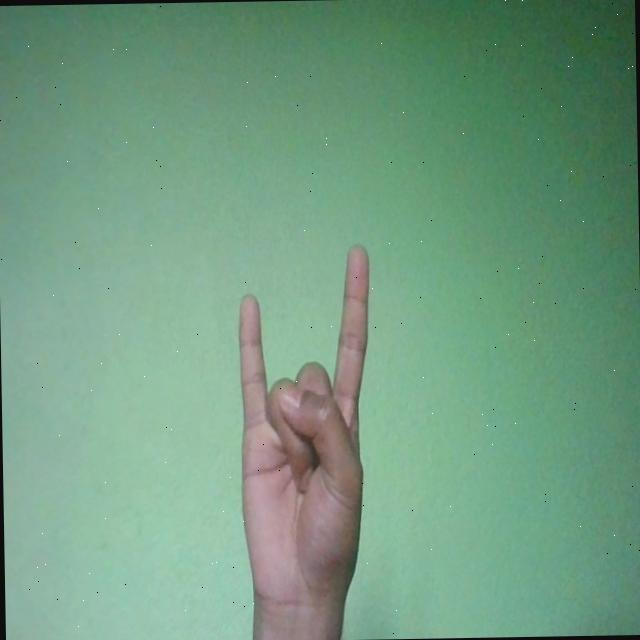open Plam: (236, 242, 376, 620)
